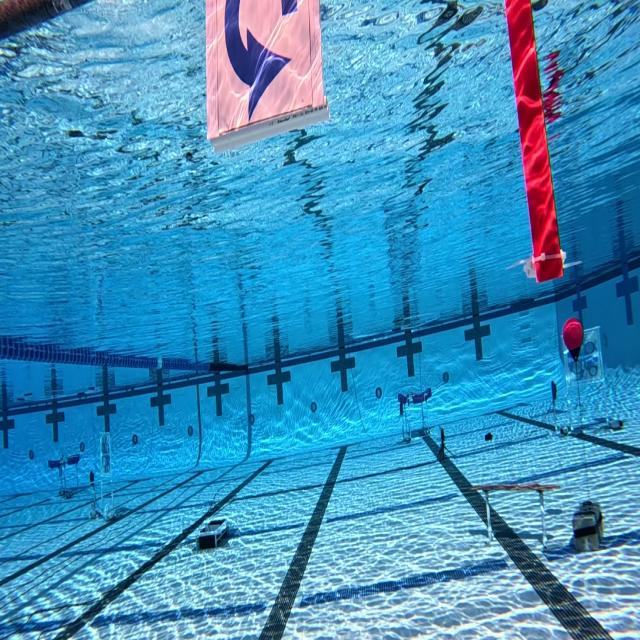blue_side: (204, 0, 325, 150)
